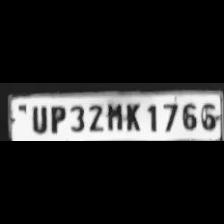1: (142, 102, 160, 132)
2: (86, 101, 104, 133)
3: (67, 102, 85, 134)
6: (197, 100, 219, 132), (179, 100, 199, 132)
7: (158, 101, 178, 133)
K: (122, 101, 142, 133)
M: (104, 100, 122, 132)
P: (46, 103, 66, 135)
U: (28, 102, 48, 134)
